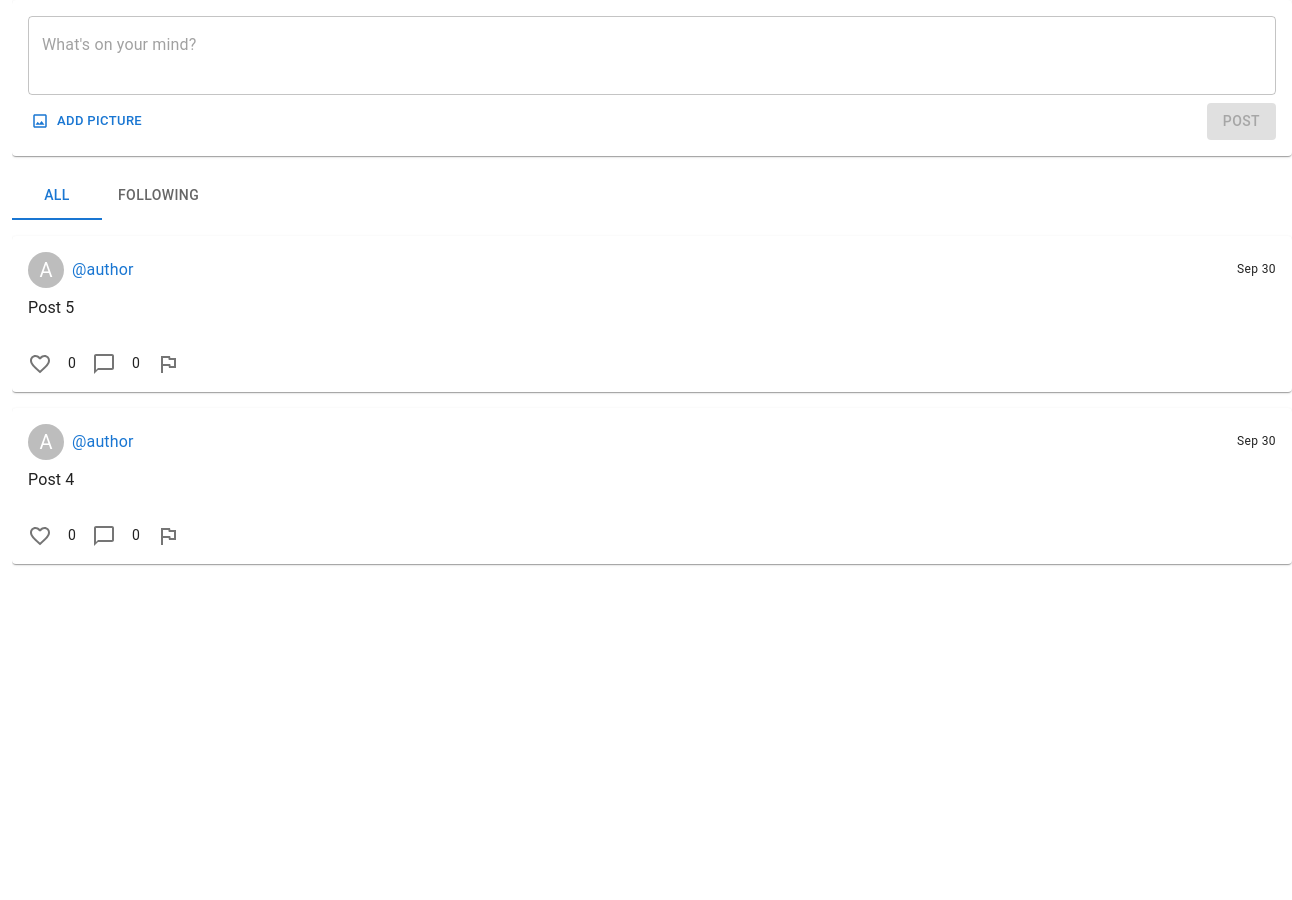
Test: Home › does not bring an old post to the top again when the tab is switched
Check: the text "Post 4" is shown, box [28,470,74,488]
Type "x" into the text box with placeholder "What's on your mind?" at (652, 56), box [42,32,1262,78]
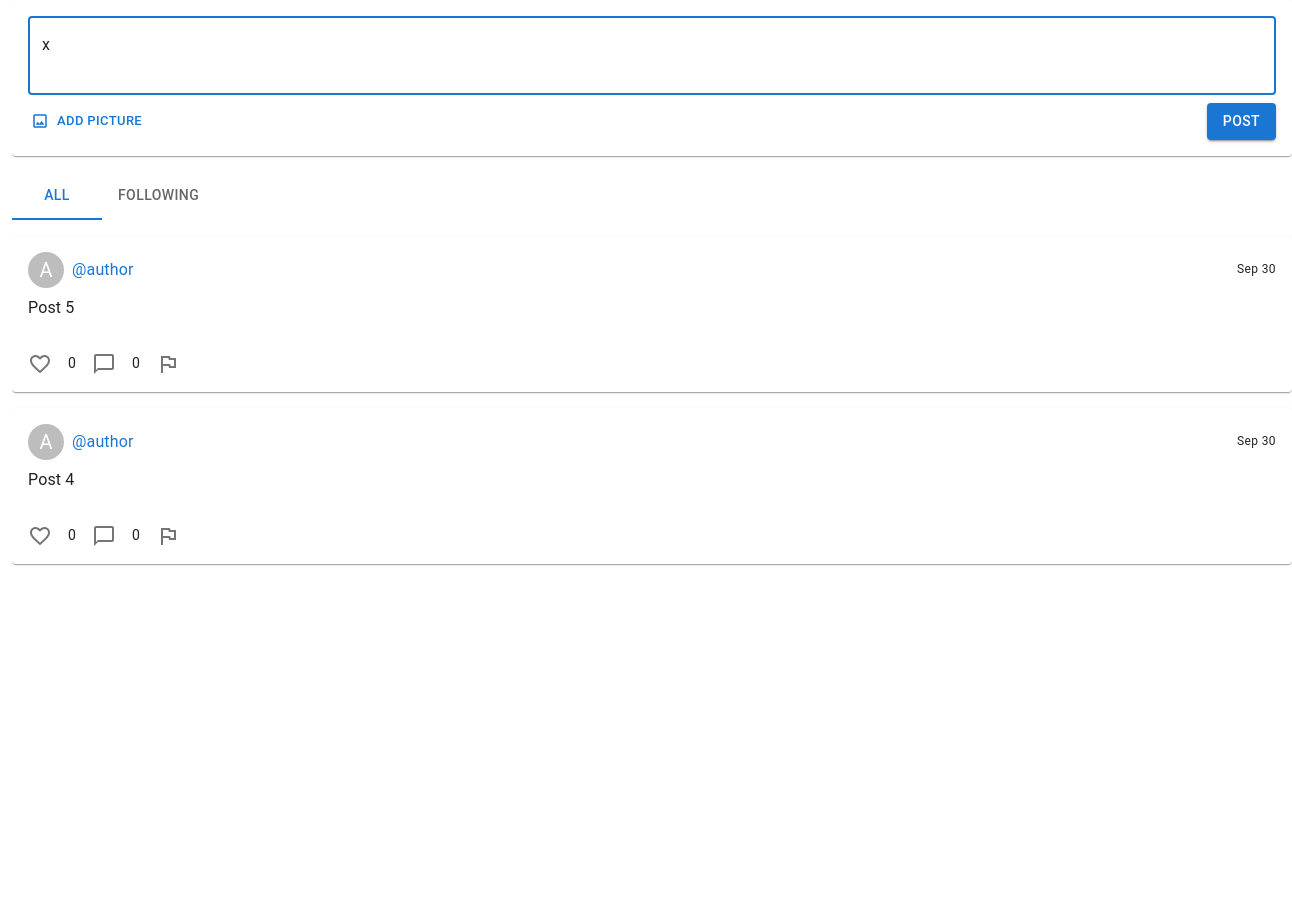
Click the button "Post" at (1241, 121), box [1207,103,1276,140]
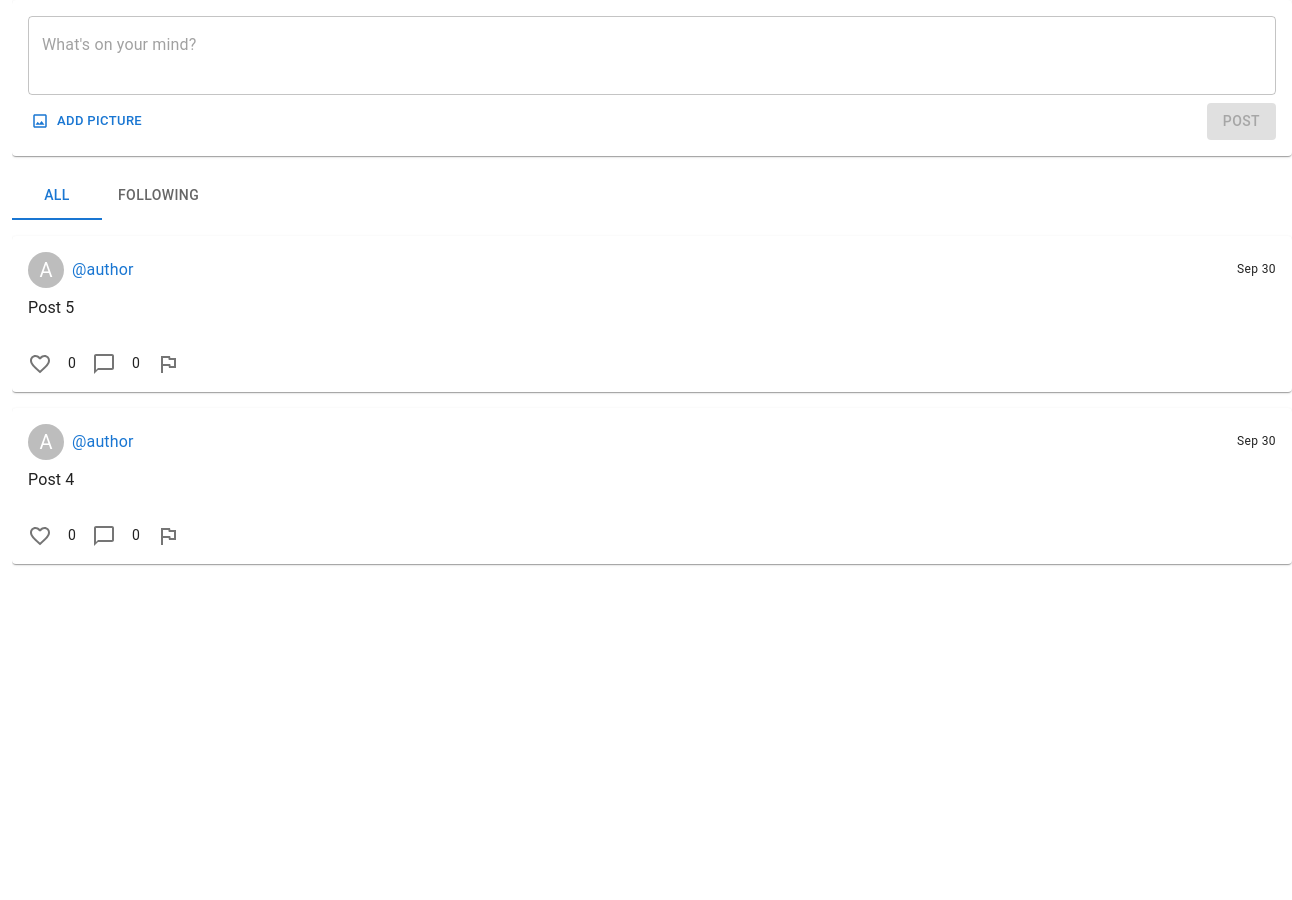
Click the tab "Following" at (159, 196), box [102,172,215,220]
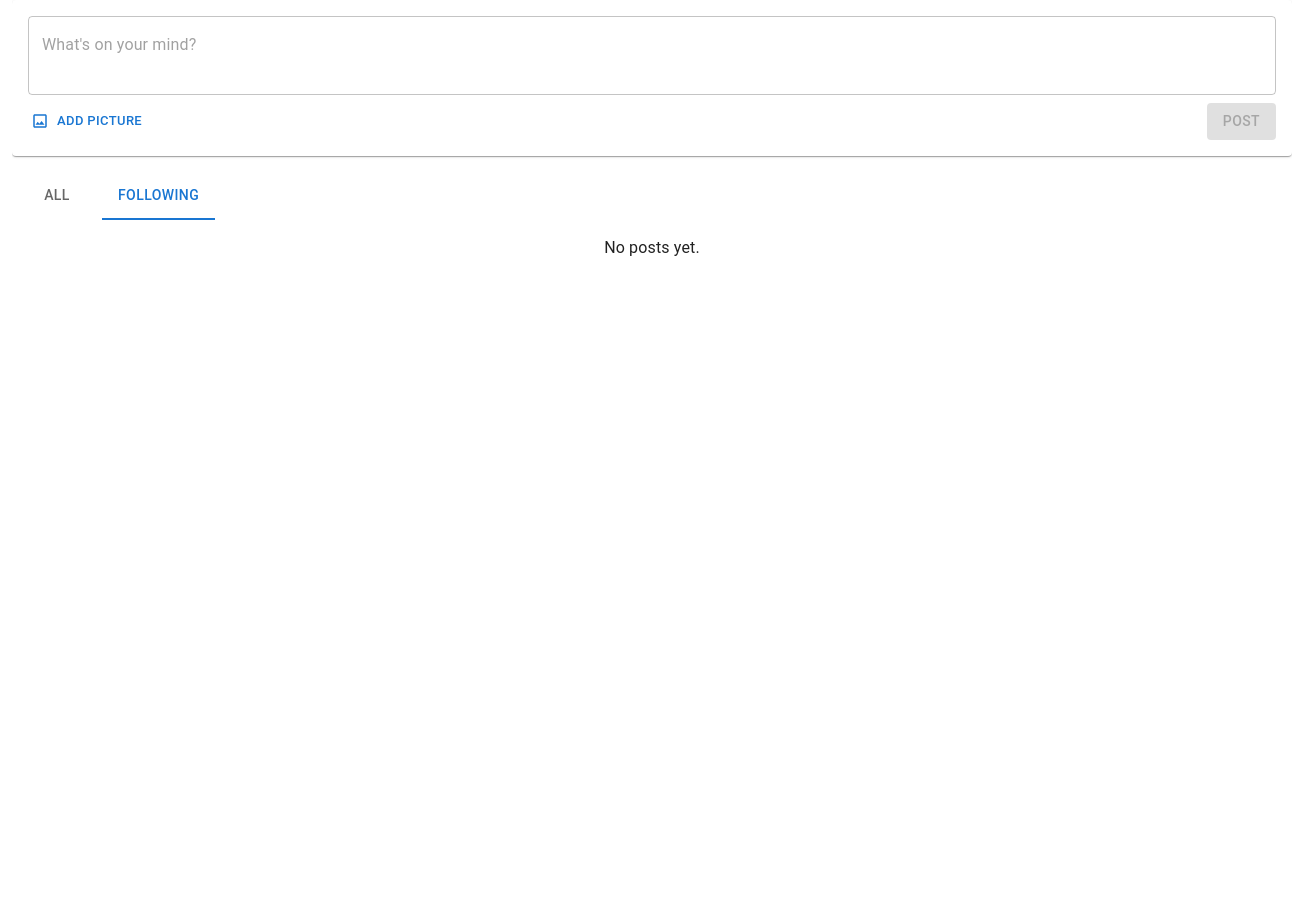
Check: the text "No posts yet." is shown, box [604,238,700,256]
Click the tab "All" at (57, 196), box [12,172,102,220]
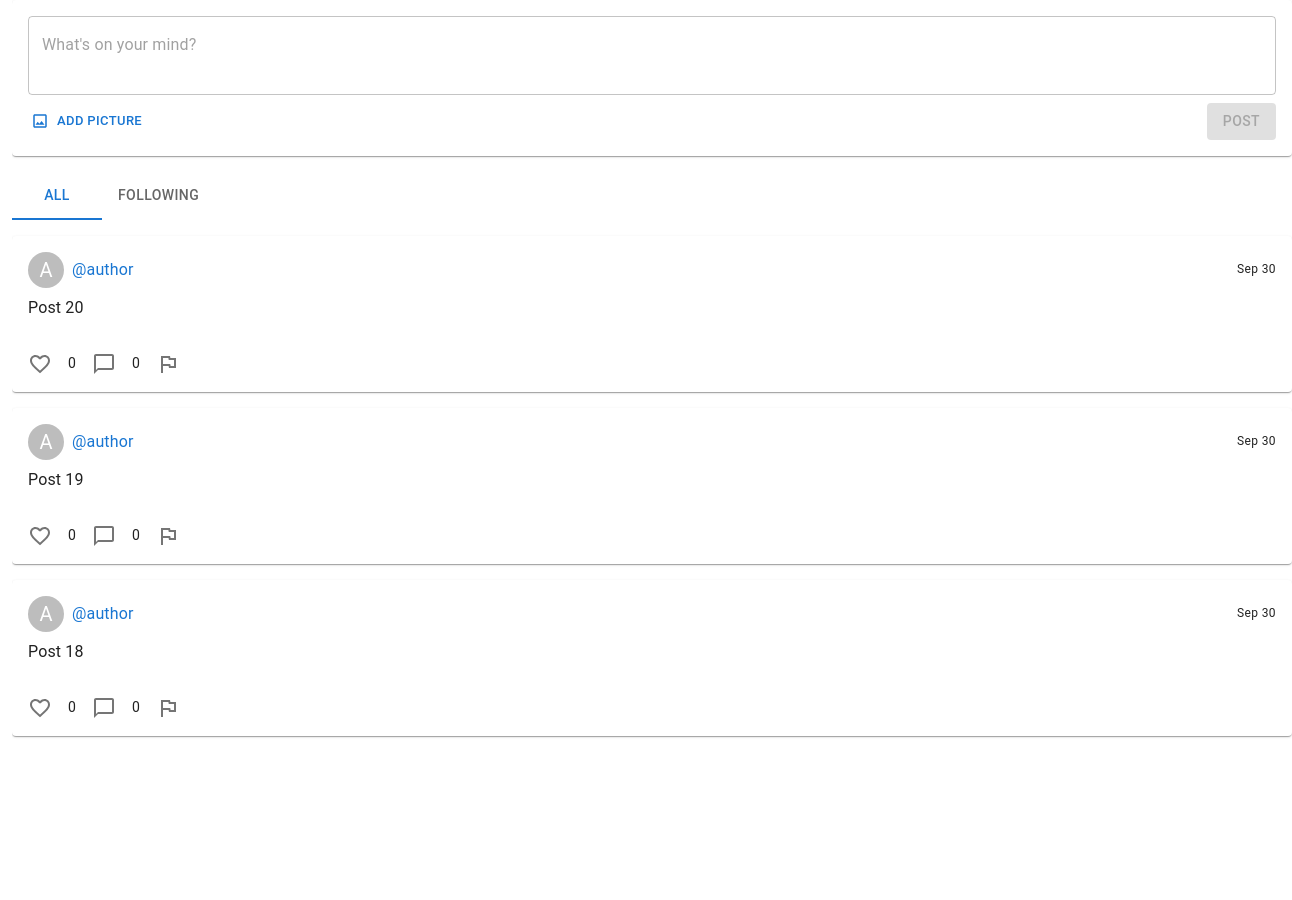
Check: the text "Post 20" is shown, box [28,298,84,316]
